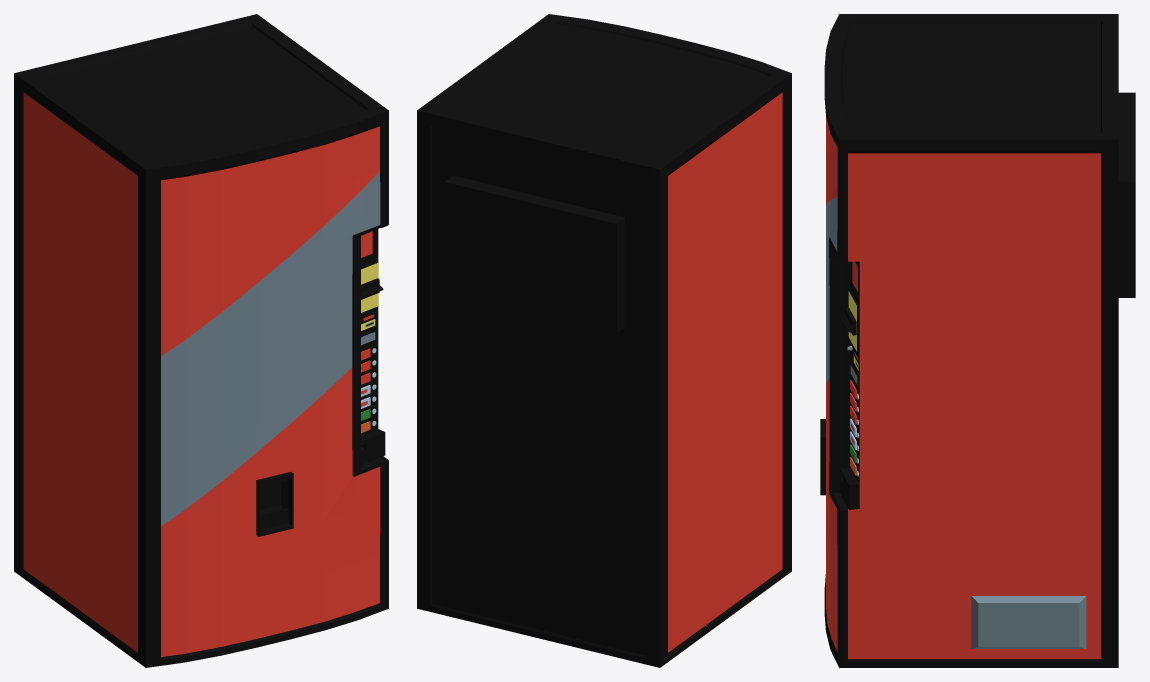
Rendered from vending_lvl4.glb.
3 views of the same model, side by side, from view 1: azimuth 30°, elevation 25°; view 2: azimuth 150°, elevation 25°; view 3: azimuth 270°, elevation 25° (orthographic). The views are drawn at different scales.
Visible parts, largest first — view 1: conk vendo; view 2: conk vendo; view 3: conk vendo.
Boxes of the visible parts, x1,y1,x2,y2 form: conk vendo: (14,14,388,667); conk vendo: (417,14,791,667); conk vendo: (820,14,1135,667).
Size of the model in its own units: 1.01 by 1.95 by 1.06.
